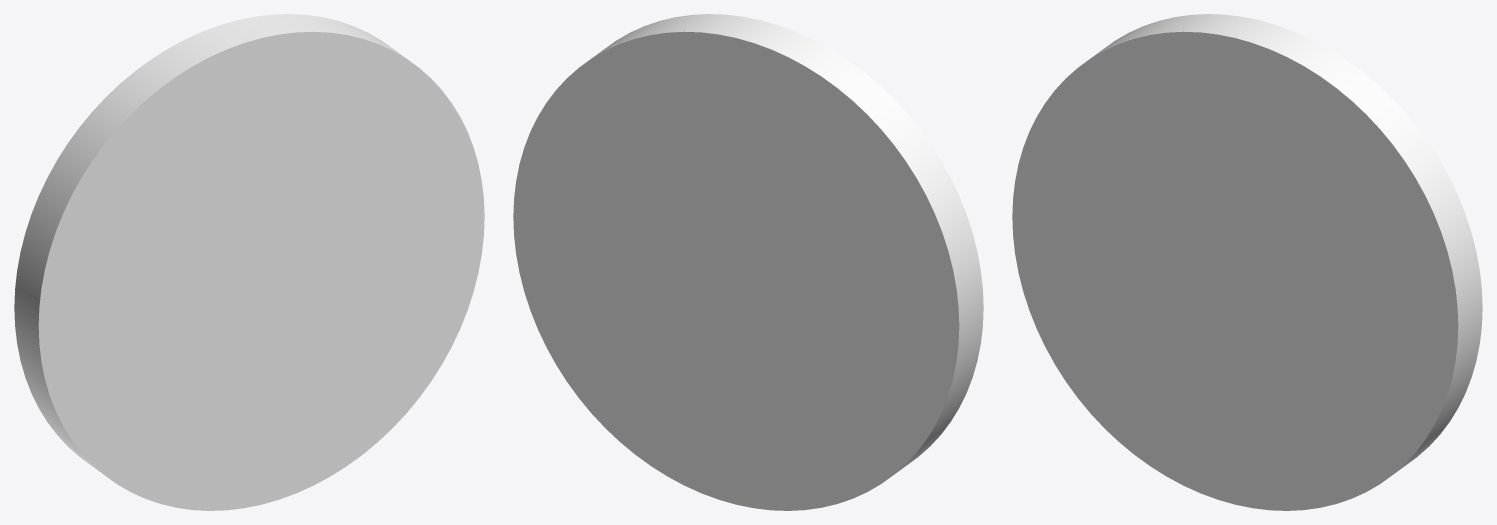
The model's file is Punto.fbx.
3 renders of one model, left to right at view 1: azimuth 30°, elevation 25°; view 2: azimuth 150°, elevation 25°; view 3: azimuth 330°, elevation 25°, orthographic.
Visible parts, largest first — view 1: root; view 2: root; view 3: root.
Boxes of the visible parts, box(x1,y1,x2,y2) form: root: box(14, 14, 484, 510); root: box(513, 14, 983, 510); root: box(1012, 14, 1482, 510).
Bounding box in the file's own units: 0.0724 × 0.0724 × 0.00685.
2 materials, 2 textured.
